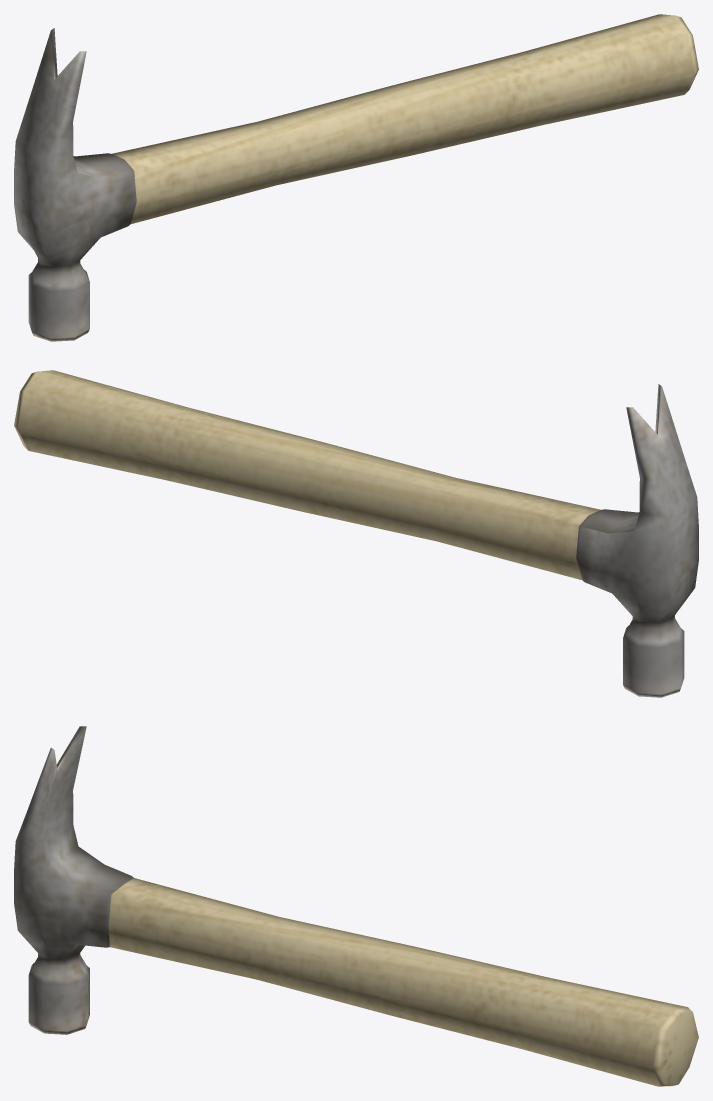
File: Hammer.fbx
3 views of the same model, one above another, from view 1: azimuth 30°, elevation 25°; view 2: azimuth 150°, elevation 25°; view 3: azimuth 330°, elevation 25° (orthographic).
Visible parts, largest first — view 1: Hammer; view 2: Hammer; view 3: Hammer.
Boxes of the visible parts, left/top/right/bottom form: Hammer: left=14, top=14, right=698, bottom=341; Hammer: left=14, top=370, right=698, bottom=697; Hammer: left=14, top=726, right=698, bottom=1086.
Bounding box in the file's own units: 133 × 55.51 × 14.64.
